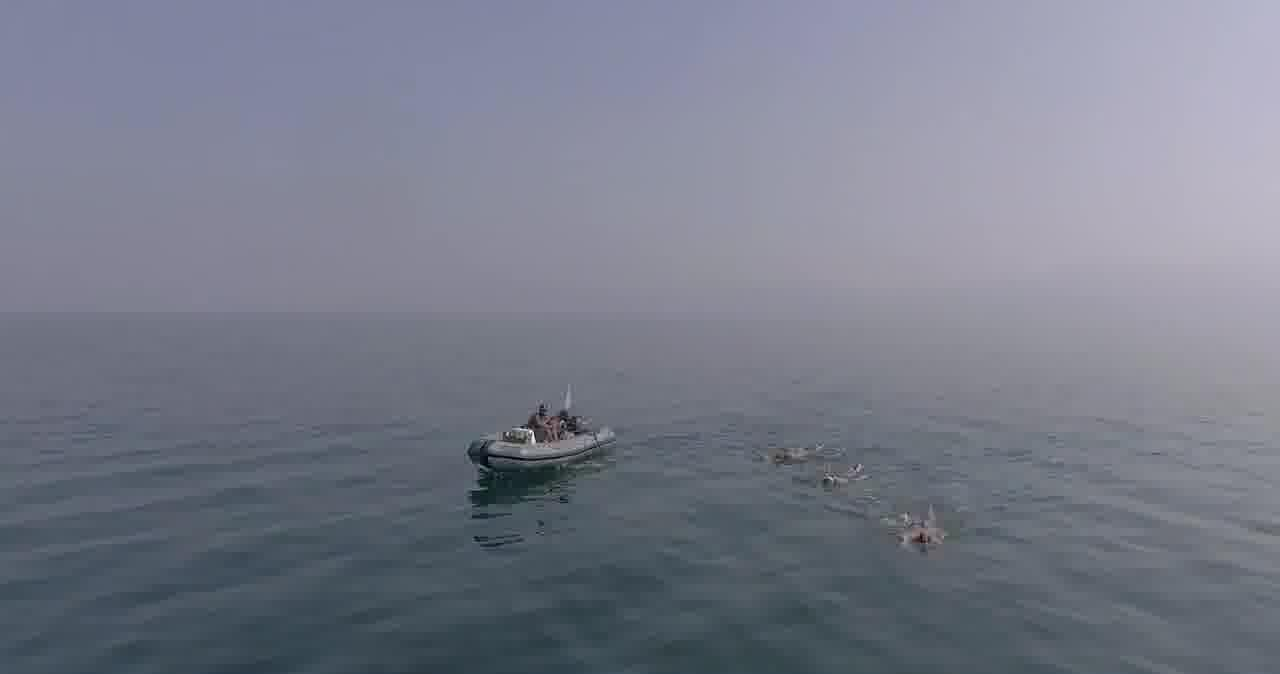human: (897, 516, 960, 552), (816, 465, 881, 492), (775, 450, 810, 465)
